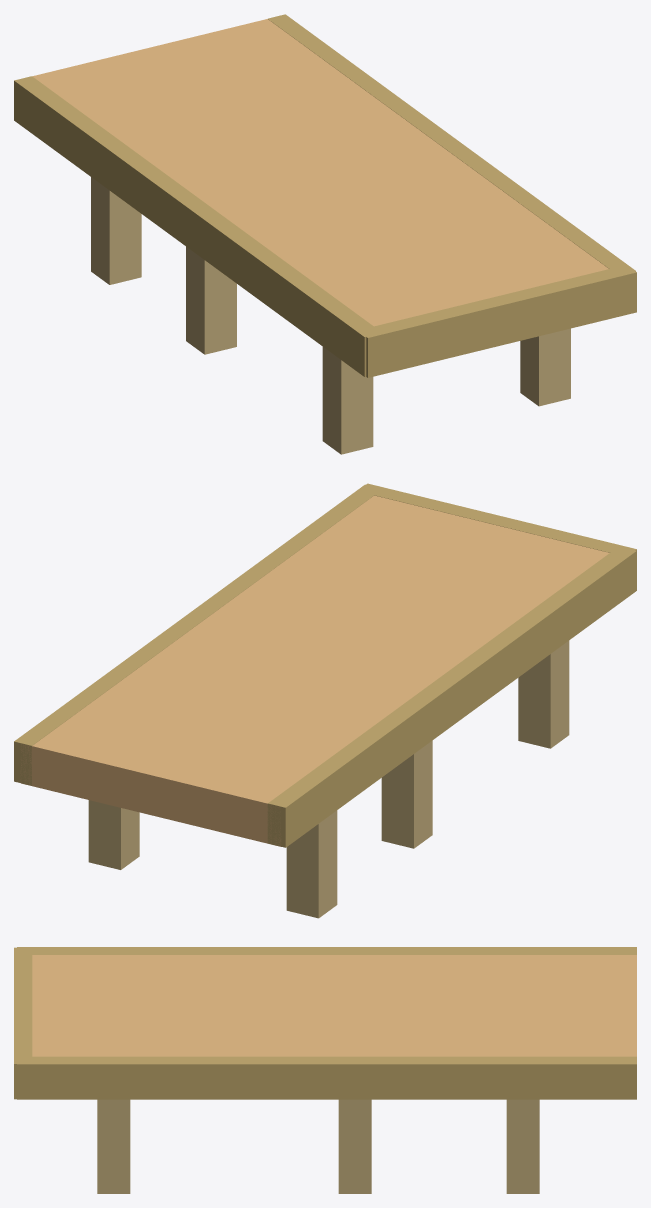
File: pristan.fbx
The picture shows the model from 3 angles, top to bottom: view 1: azimuth 30°, elevation 25°; view 2: azimuth 150°, elevation 25°; view 3: azimuth 270°, elevation 25°; orthographic projection. The views are drawn at different scales.
Visible parts, largest first — view 1: Cube_1; view 2: Cube_1; view 3: Cube_1.
Boxes of the visible parts, <box> form: Cube_1: <box>14,14,636,454</box>; Cube_1: <box>14,483,636,918</box>; Cube_1: <box>14,947,636,1193</box>.
Size of the model in its own units: 317 by 174 by 714.
